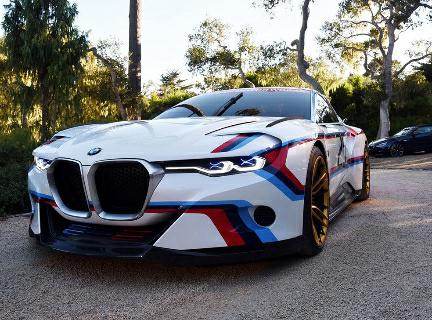宝马-30CSLHommage: (21, 82, 380, 263)
